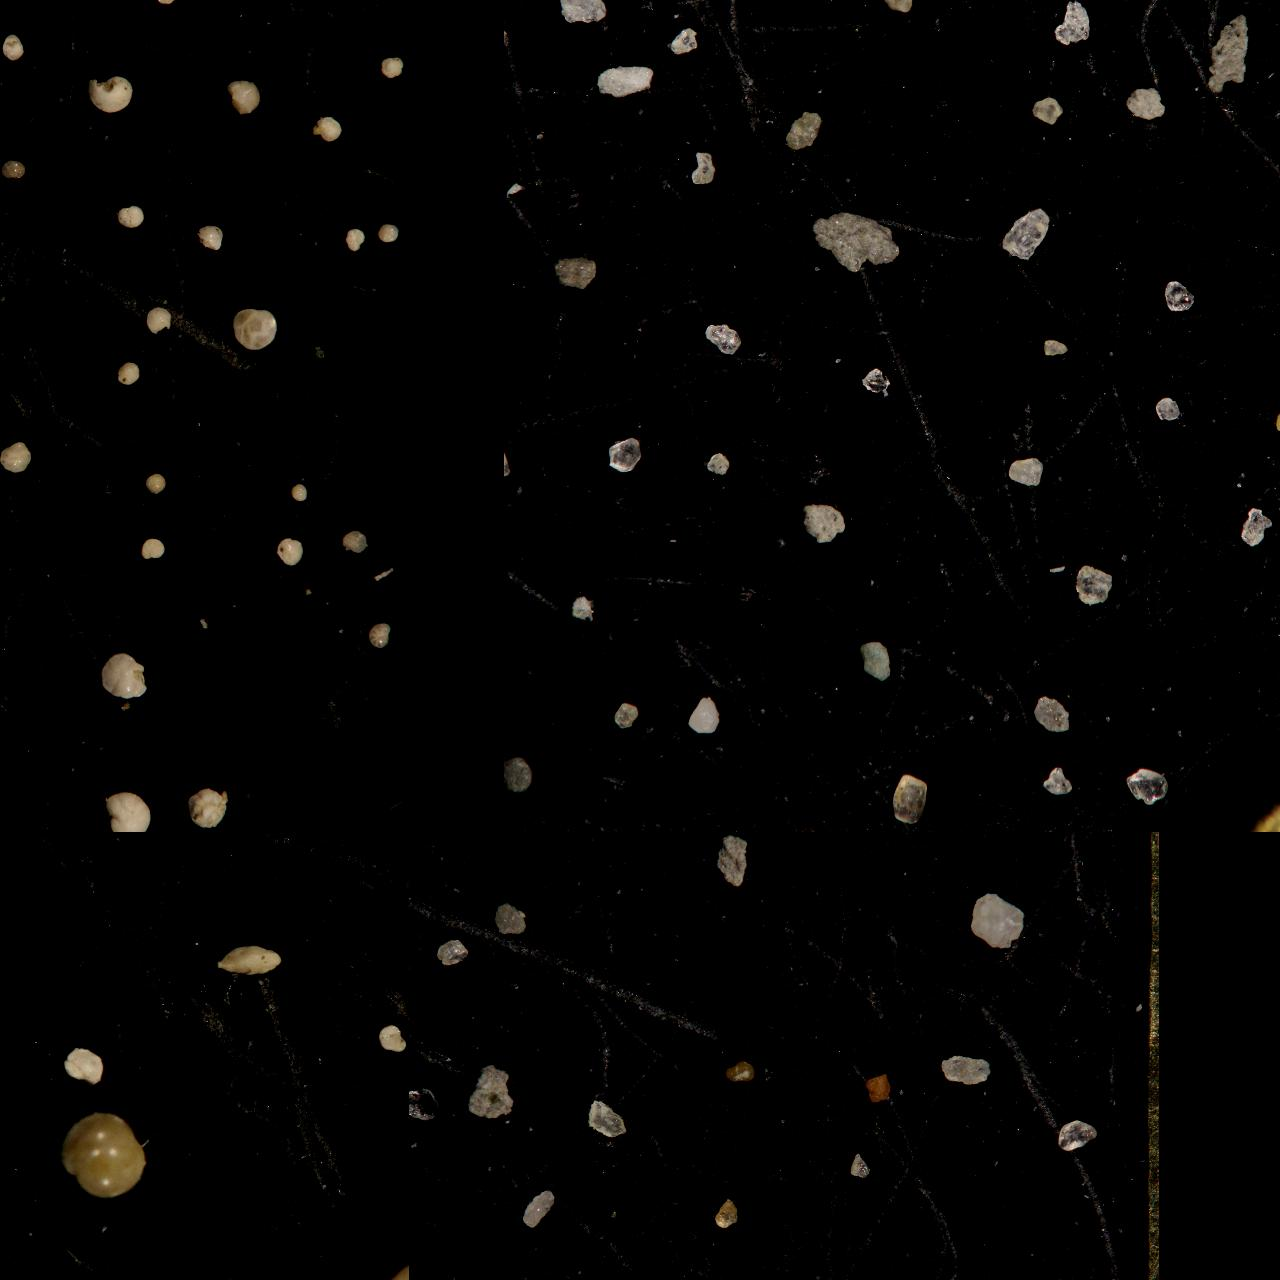Sediment: (812, 211, 900, 273), (1206, 12, 1250, 95), (971, 888, 1024, 949), (1000, 204, 1053, 259), (467, 1062, 515, 1121), (586, 1096, 628, 1141), (891, 771, 927, 823), (595, 63, 654, 95), (715, 832, 749, 885), (802, 502, 844, 544), (938, 1054, 990, 1087), (1125, 764, 1169, 804), (1075, 561, 1114, 605), (1053, 0, 1090, 45), (1057, 1115, 1098, 1153), (783, 109, 821, 150), (554, 252, 598, 287), (520, 1186, 556, 1228), (1124, 86, 1165, 120), (1034, 694, 1070, 730), (860, 640, 892, 681), (688, 694, 720, 735), (557, 0, 608, 25), (1240, 506, 1272, 546), (654, 0, 707, 23), (704, 322, 740, 355), (608, 436, 640, 472), (492, 899, 524, 935), (1164, 279, 1197, 313), (435, 934, 469, 967), (1007, 456, 1043, 486), (409, 1085, 438, 1123), (504, 754, 532, 792), (1041, 764, 1074, 796), (792, 832, 838, 855), (602, 0, 658, 18), (1032, 94, 1062, 125), (667, 25, 697, 55), (613, 699, 641, 731), (756, 0, 799, 21), (860, 366, 890, 396), (690, 150, 716, 184), (864, 1071, 890, 1105), (724, 1057, 756, 1084), (714, 1196, 741, 1226), (915, 0, 956, 20), (980, 0, 1014, 23), (874, 0, 912, 21), (571, 593, 597, 622), (904, 832, 949, 849), (475, 832, 510, 853), (1155, 395, 1182, 421), (860, 0, 897, 19), (706, 451, 730, 477), (849, 1151, 871, 1178), (1260, 0, 1280, 29), (1042, 336, 1069, 358), (1167, 0, 1201, 16), (930, 0, 961, 18), (1153, 0, 1189, 15), (409, 982, 425, 1012), (520, 0, 547, 18), (783, 832, 816, 846), (1063, 0, 1089, 18), (504, 0, 530, 18), (853, 0, 880, 16), (409, 832, 429, 853), (717, 0, 740, 19), (741, 0, 772, 13), (504, 181, 524, 199), (613, 0, 641, 13), (570, 832, 597, 845), (948, 0, 972, 14), (409, 832, 425, 852), (1228, 0, 1245, 11)
calcareous: (56, 1109, 148, 1198), (0, 454, 38, 527), (101, 652, 148, 702), (0, 726, 35, 792), (216, 941, 280, 976), (0, 64, 38, 122), (104, 788, 151, 832), (232, 306, 278, 350), (86, 73, 132, 115), (189, 785, 230, 831), (62, 1044, 103, 1085), (0, 370, 30, 423), (226, 75, 261, 116), (0, 152, 27, 199), (30, 832, 72, 859), (0, 642, 23, 689), (0, 438, 30, 474), (350, 832, 399, 855), (0, 406, 21, 452), (312, 113, 342, 143), (377, 1021, 407, 1053), (144, 304, 173, 334), (224, 832, 263, 855), (195, 223, 225, 251), (275, 536, 304, 566), (334, 832, 373, 853), (116, 202, 143, 229), (341, 526, 368, 553), (139, 535, 166, 561), (196, 832, 232, 852), (0, 30, 23, 61), (368, 621, 393, 649), (0, 270, 19, 306), (379, 54, 406, 79), (115, 0, 151, 18), (116, 360, 141, 386), (334, 0, 369, 18), (0, 157, 26, 181), (345, 226, 366, 252), (377, 222, 400, 245), (144, 471, 166, 495), (150, 0, 179, 18), (0, 0, 20, 23), (193, 0, 220, 16), (60, 0, 86, 15), (290, 481, 308, 501), (331, 0, 361, 12), (139, 832, 159, 847), (125, 0, 151, 12), (0, 0, 15, 19), (206, 0, 227, 12), (0, 0, 11, 12)
